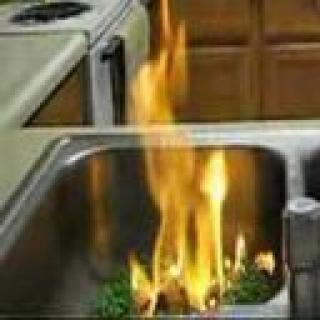fire: (123, 1, 252, 313)
